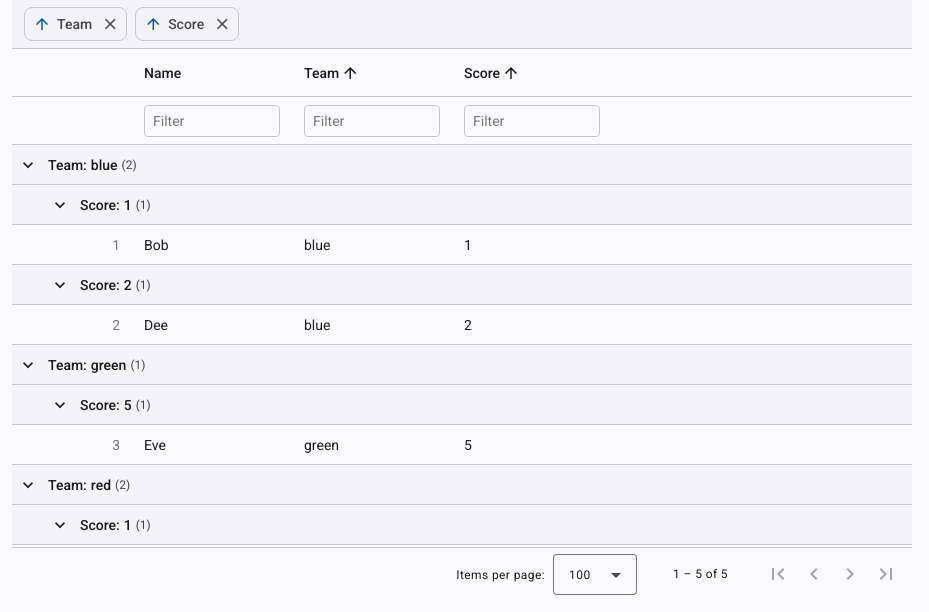
Test: DataGridComponent › grouping › ungroups by the chip button and by dragging the chip away
Click the 1st button with class "grid-chip-remove" at (110, 24), box left=98, top=12, right=122, bottom=36
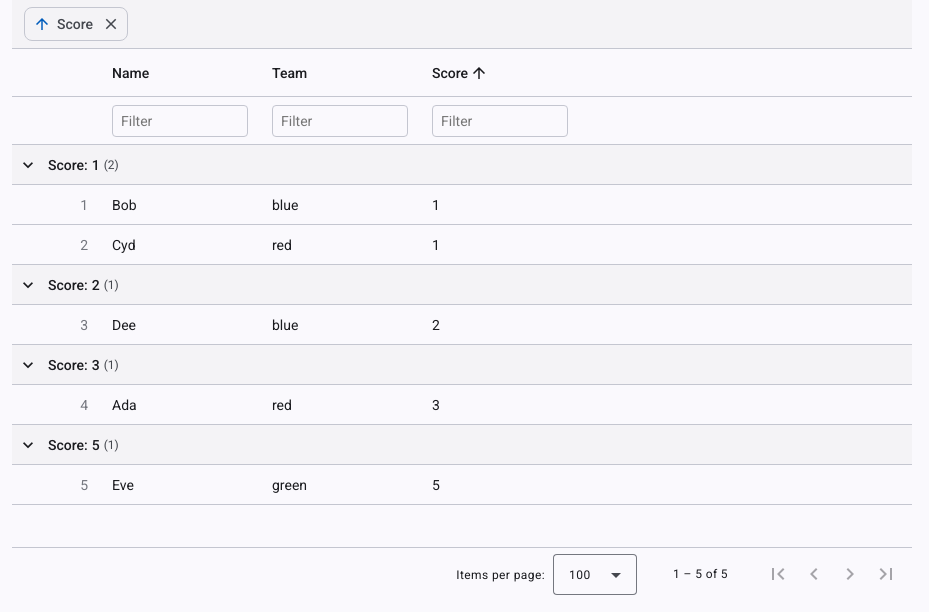
Press the mouse on the button with class "grid-group-chip" at (76, 24), box left=24, top=7, right=128, bottom=41
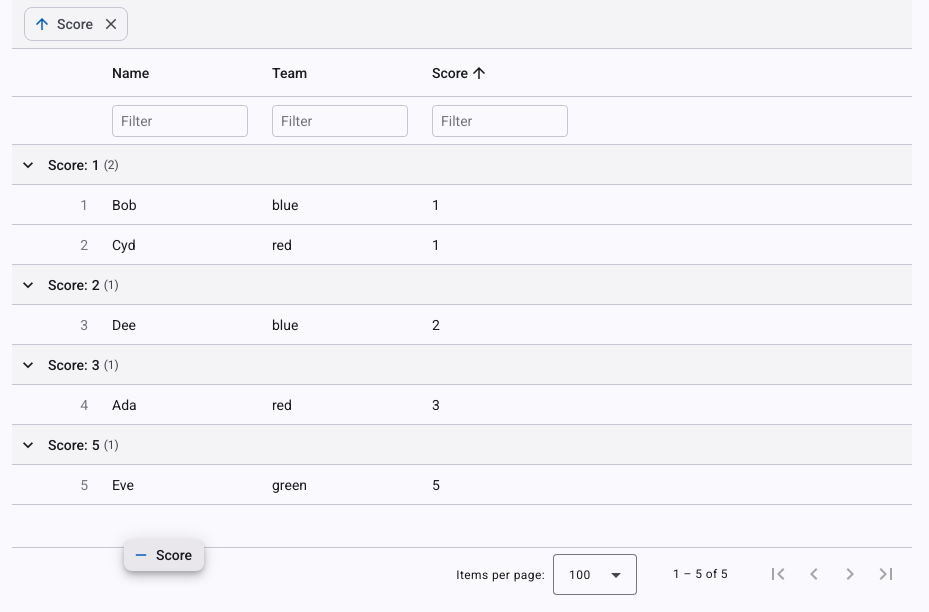
Click the button with class "grid-group-chip" at (76, 24), box left=24, top=7, right=128, bottom=41
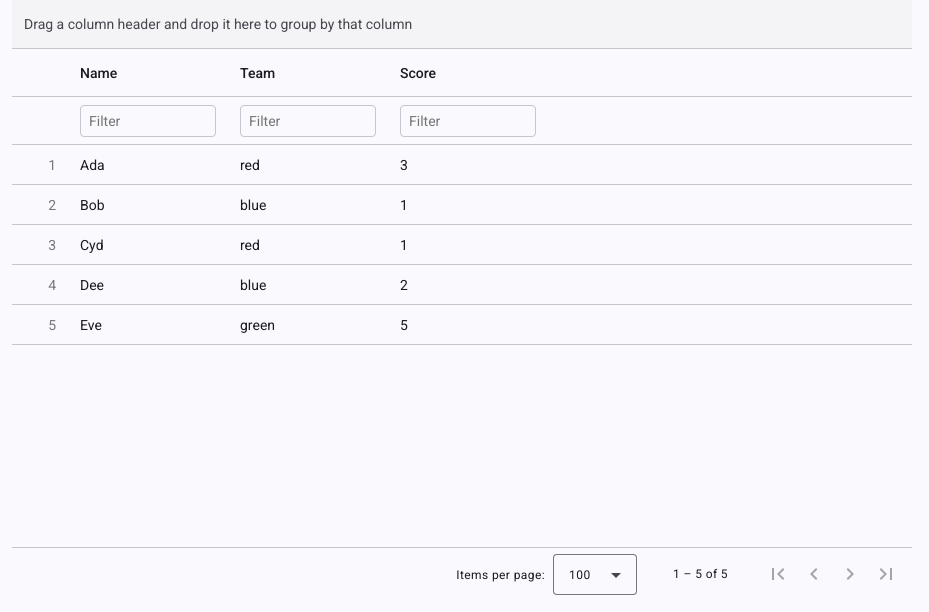
Expected: no rows with class "grid-group-row" are shown
